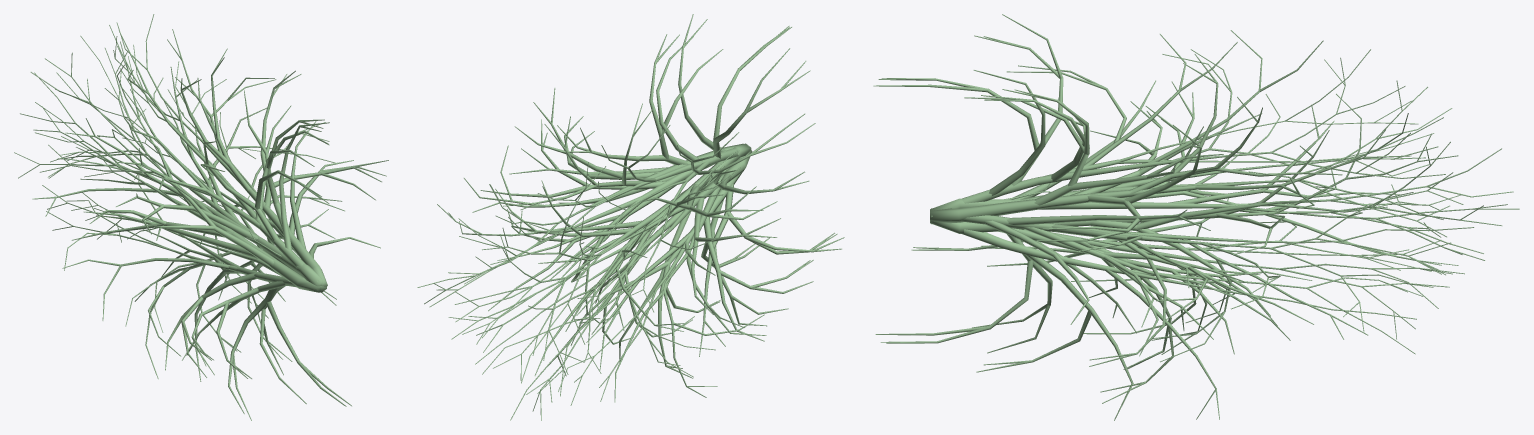
The model's file is Kayu angin.fbx.
3 renders of one model, left to right at view 1: azimuth 30°, elevation 25°; view 2: azimuth 150°, elevation 25°; view 3: azimuth 270°, elevation 25°, orthographic. The views are drawn at different scales.
Visible parts, largest first — view 1: Kayu angin; view 2: Kayu angin; view 3: Kayu angin.
Boxes of the visible parts, x1,y1,x2,y2 form: Kayu angin: [14, 14, 388, 420]; Kayu angin: [417, 14, 844, 420]; Kayu angin: [873, 14, 1519, 420].
Bounding box in the file's own units: 2.39 × 2.41 × 4.11.
